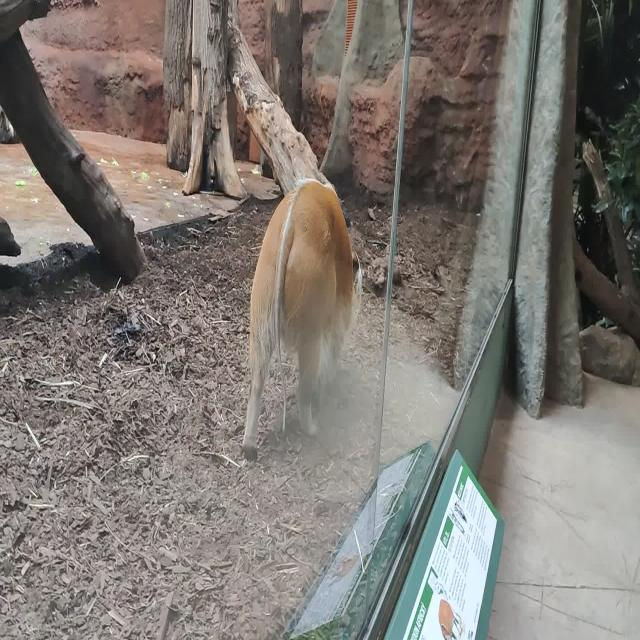boar: (242, 177, 362, 462)
